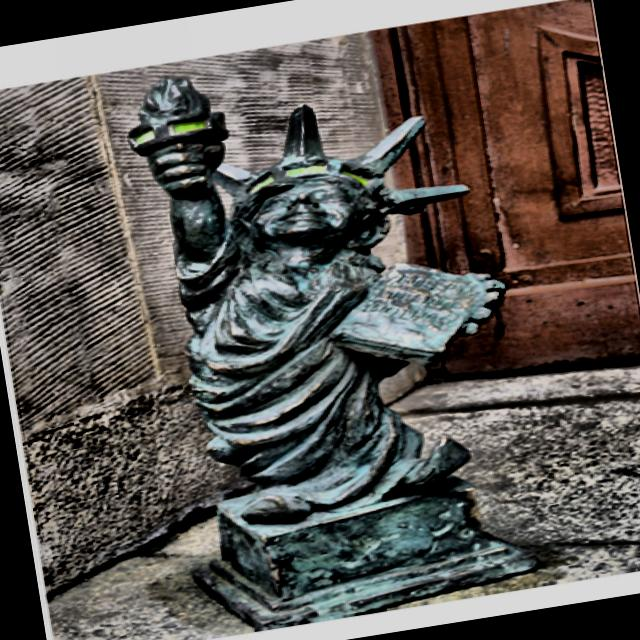LadyWolnosc: (130, 79, 538, 629)
